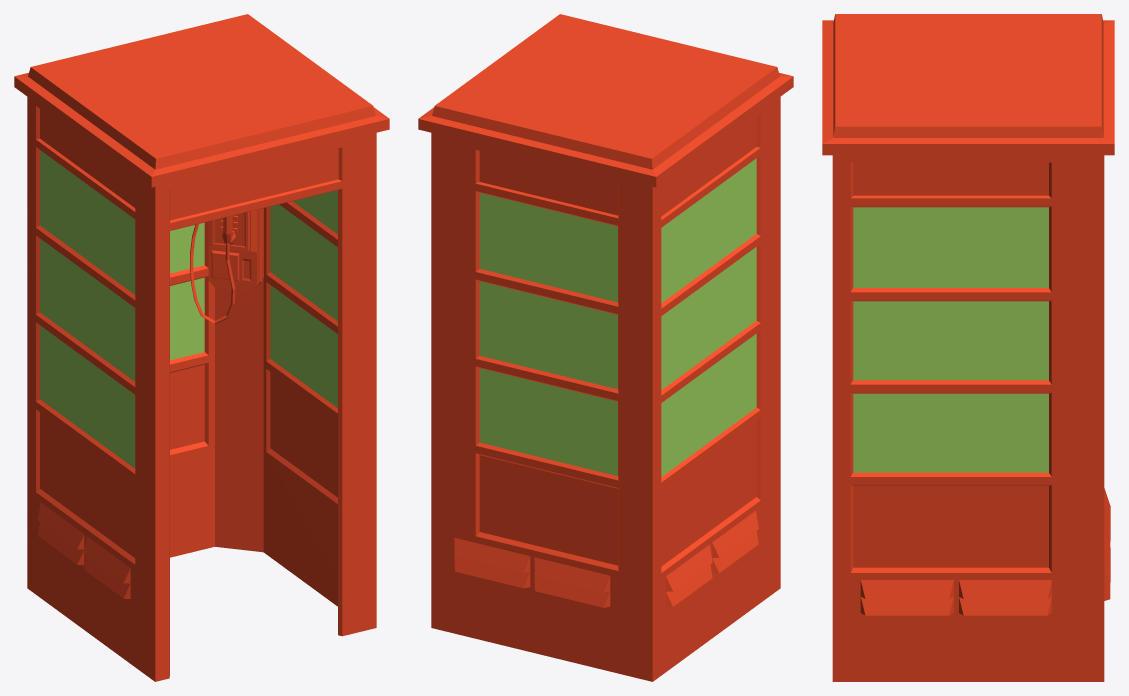
The model's file is SM_Telephone_Booth_A_City.fbx.
The picture shows the model from 3 angles, left to right: view 1: azimuth 30°, elevation 25°; view 2: azimuth 150°, elevation 25°; view 3: azimuth 270°, elevation 25°; orthographic projection. The views are drawn at different scales.
Visible parts, largest first — view 1: SM_Telephone_Booth_A_City; view 2: SM_Telephone_Booth_A_City; view 3: SM_Telephone_Booth_A_City.
Part boxes in pixels (x1=…): SM_Telephone_Booth_A_City: x1=14, y1=14, x2=389, y2=681; SM_Telephone_Booth_A_City: x1=418, y1=14, x2=793, y2=681; SM_Telephone_Booth_A_City: x1=822, y1=14, x2=1114, y2=681.
Bounding box in the file's own units: 1.19 × 2.5 × 1.19.
